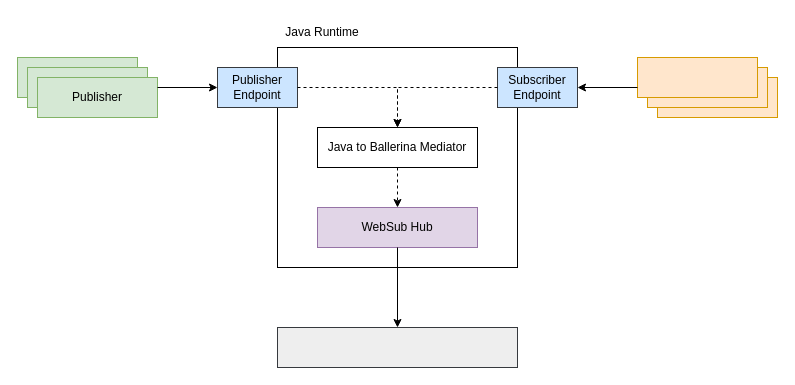
This 795x385 diagram has some shape labels left out. The centre of each missing label's shape, as x and y in pixels:
"JMS Provider" belongs at point 397,347.
"Subscriber" belongs at point 697,77.
